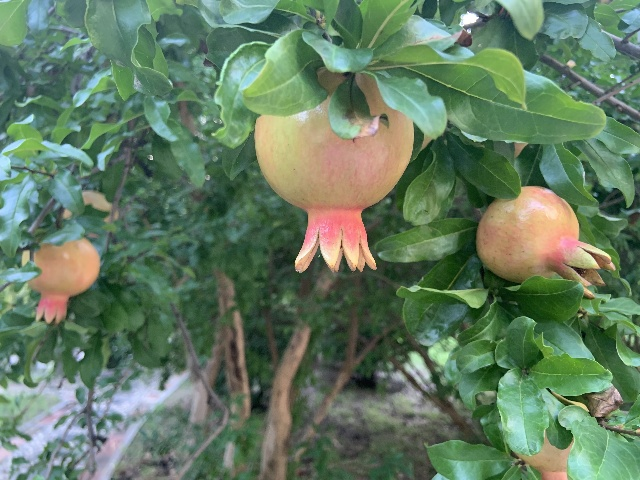mid-growth: (255, 69, 414, 277), (476, 186, 615, 298), (21, 236, 99, 325)
